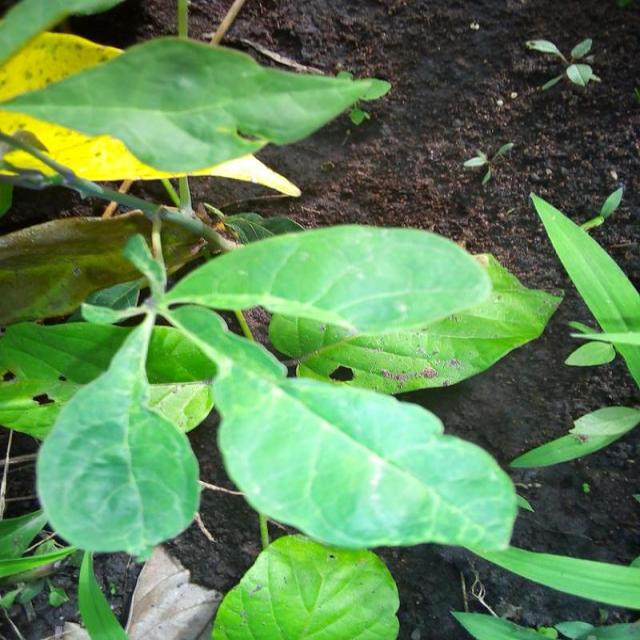cassava leaf: (162, 222, 564, 395), (2, 30, 392, 195), (212, 362, 519, 552), (35, 312, 203, 562), (2, 207, 205, 326), (530, 185, 640, 388), (211, 532, 402, 638)
